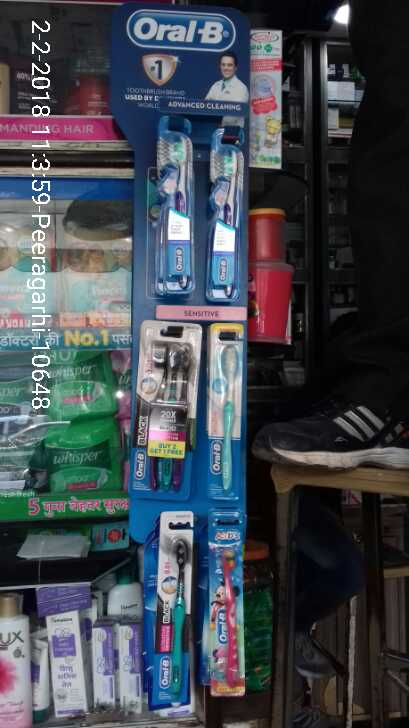oralb: (147, 326, 199, 497), (154, 126, 201, 290), (214, 529, 254, 696), (208, 146, 250, 302), (158, 517, 191, 707), (209, 341, 246, 490)
